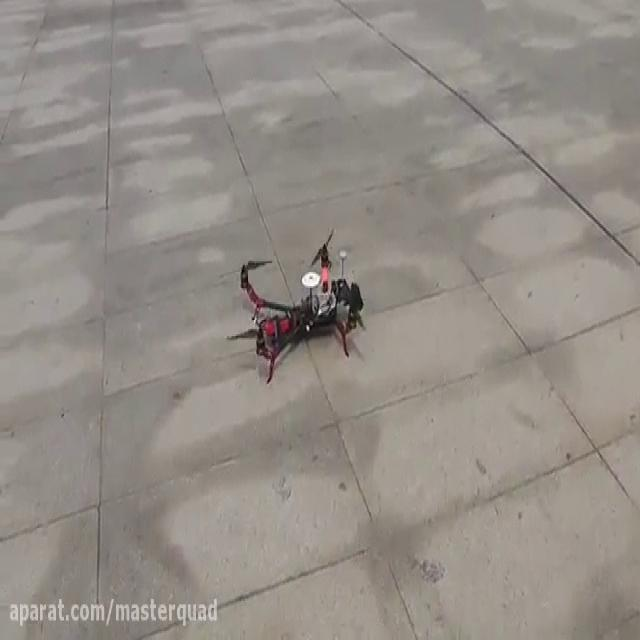drone: (224, 222, 367, 386)
